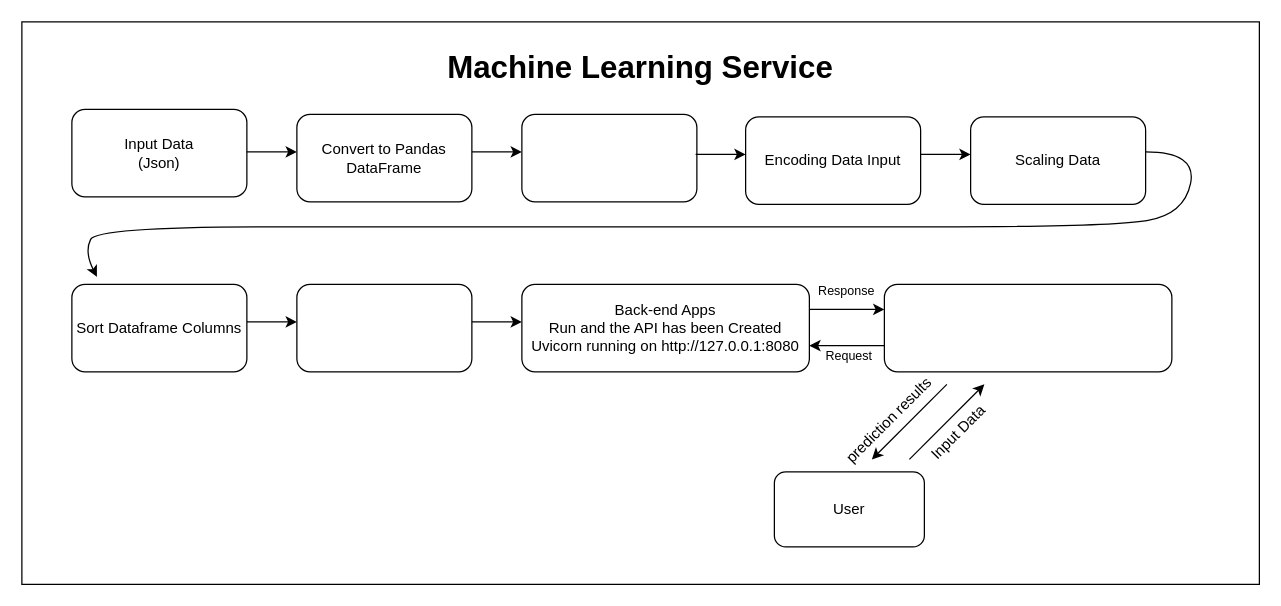
Image size: 1281x606. Some labels were removed from this diagram. Each missing label, with the centre of its shape:
"Data Defense" belongs at pixel 609 157.
"Front-End Apps Streamlit using API port http://127.0.0.1:8051" belongs at pixel 1027 327.
"Predict Data Input" belongs at pixel 384 327.
